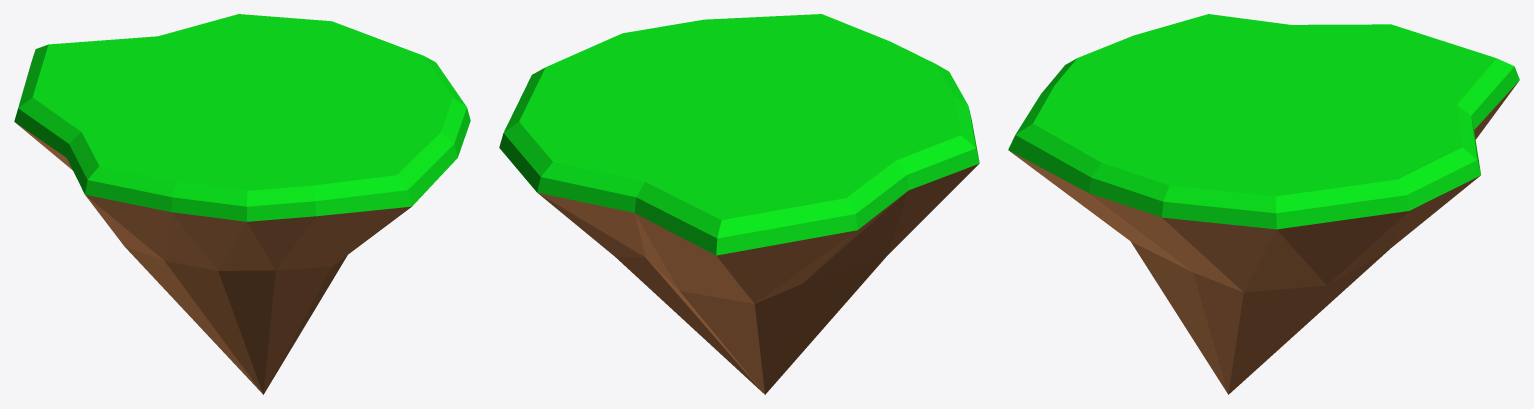
The model's file is Grass Island.fbx.
The picture shows the model from 3 angles, left to right: view 1: azimuth 30°, elevation 25°; view 2: azimuth 150°, elevation 25°; view 3: azimuth 270°, elevation 25°; orthographic projection. The views are drawn at different scales.
Visible parts, largest first — view 1: Grass island; view 2: Grass island; view 3: Grass island.
Boxes of the visible parts, x1,y1,x2,y2 form: Grass island: (14,14,470,394); Grass island: (499,14,979,394); Grass island: (1008,14,1519,394).
Bounding box in the file's own units: 2014 × 1379 × 2190.
